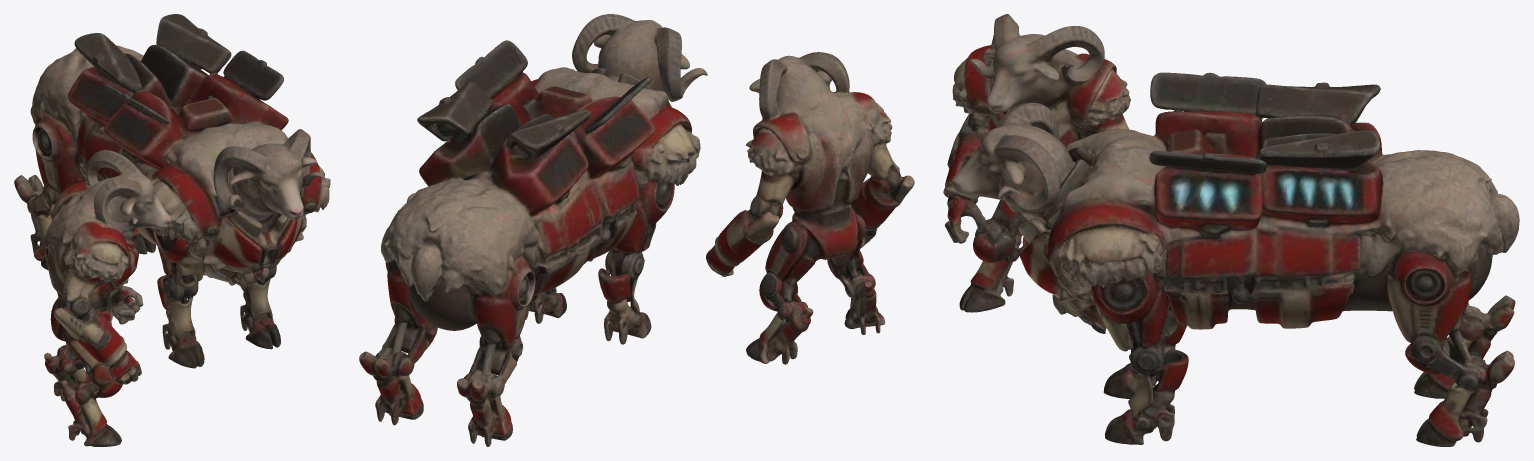
The model's file is Meshy_AI_Cyber_Rams_of_the_Was_0921225908_texture-compressed-compressed.glb.
3 renders of one model, left to right at view 1: azimuth 30°, elevation 25°; view 2: azimuth 150°, elevation 25°; view 3: azimuth 270°, elevation 25°, orthographic. The views are drawn at different scales.
Parts seen in each view (by area): view 1: mesh_0; view 2: mesh_0; view 3: mesh_0.
Part boxes in pixels (left/top/right/bottom): mesh_0: left=14, top=14, right=330, bottom=446; mesh_0: left=359, top=14, right=914, bottom=446; mesh_0: left=943, top=14, right=1519, bottom=446.
Bounding box in the file's own units: 1.47 × 1.11 × 1.9.
1 material, 1 textured.
